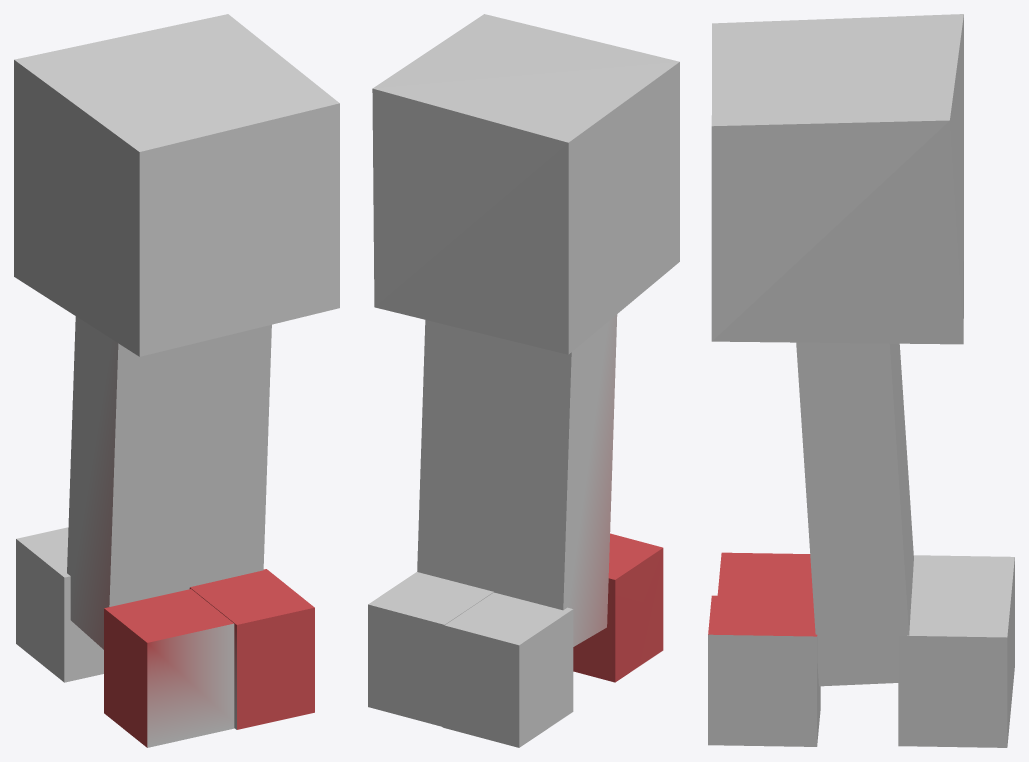
The model's file is creeper.dae.
3 renders of one model, left to right at view 1: azimuth 30°, elevation 25°; view 2: azimuth 150°, elevation 25°; view 3: azimuth 270°, elevation 25°, orthographic. The views are drawn at different scales.
Parts seen in each view (by area): view 1: Creeper; view 2: Creeper; view 3: Creeper.
Part boxes in pixels (x1,y1,x2,y2): Creeper: [14, 14, 339, 747]; Creeper: [368, 14, 679, 747]; Creeper: [708, 14, 1014, 747].
Size of what is drawn, in the model's own units: 0.5202 by 0.6334 by 1.46.
